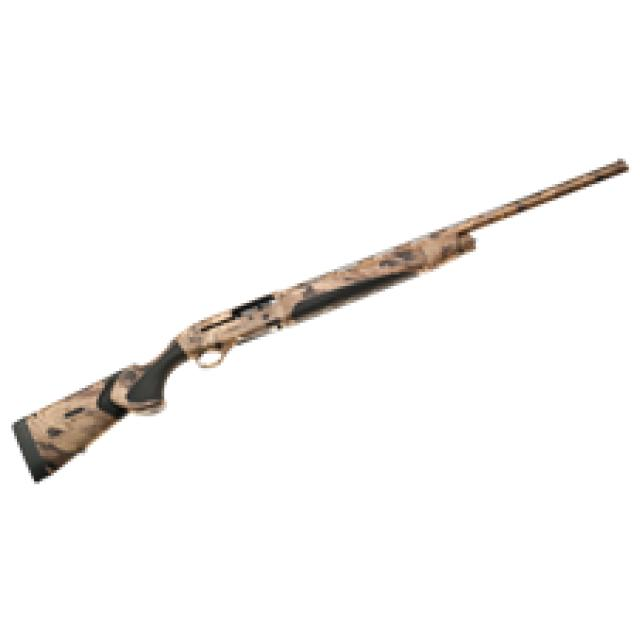rifle: (9, 151, 632, 494)
